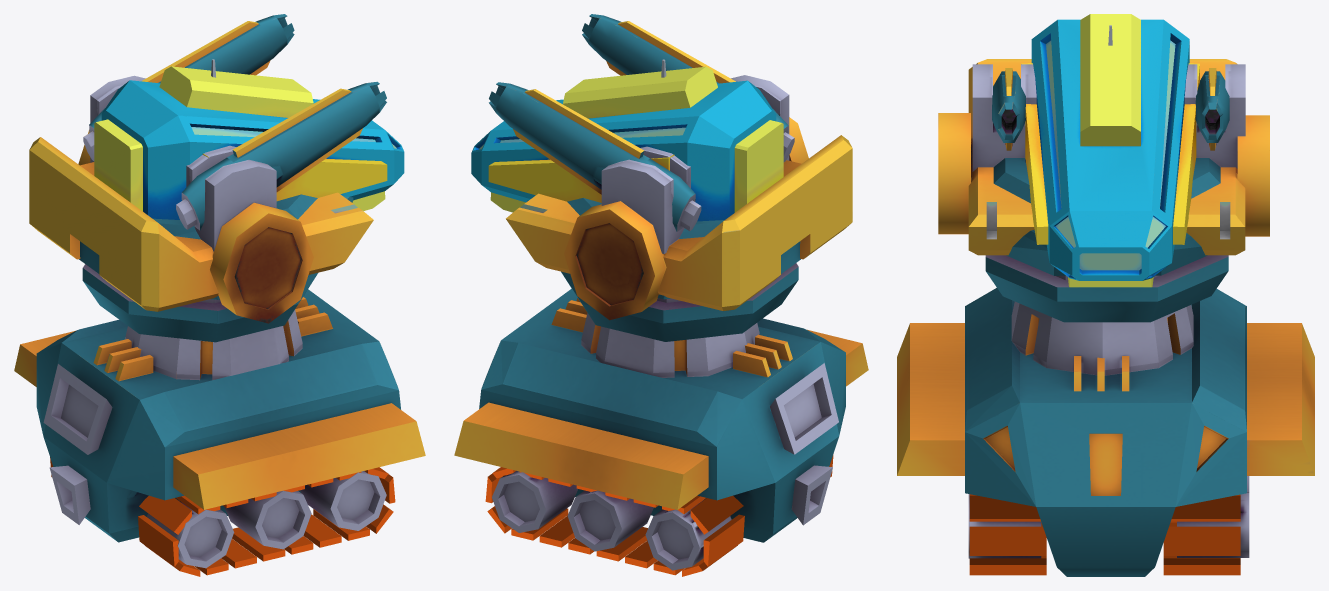
Rendered from Player_Idle_1_Upgrade8.obj.
The picture shows the model from 3 angles, left to right: view 1: azimuth 30°, elevation 25°; view 2: azimuth 150°, elevation 25°; view 3: azimuth 270°, elevation 25°; orthographic projection. The views are drawn at different scales.
Visible parts, largest first — view 1: Object008, Object014, Box009, Box017; view 2: Object008, Object014, Box009, Box016; view 3: Object008, Box017, Box016, Object014, Box009.
Part boxes in pixels (box(x1,y1,x2,y2)): Object008: box(14, 66, 425, 542); Object014: box(83, 14, 386, 230); Box009: box(147, 471, 386, 568); Box017: box(138, 467, 395, 576); Object008: box(454, 66, 868, 542); Object014: box(489, 14, 794, 231); Box009: box(492, 471, 731, 570); Box016: box(485, 467, 744, 576); Object008: box(897, 14, 1314, 576); Box017: box(969, 494, 1046, 575); Box016: box(1163, 494, 1240, 575); Object014: box(992, 68, 1229, 150); Box009: box(968, 476, 1249, 558).
Bounding box in the file's own units: 65.77 × 86.72 × 66.14.
Materials: 4 (2 with a texture image).
